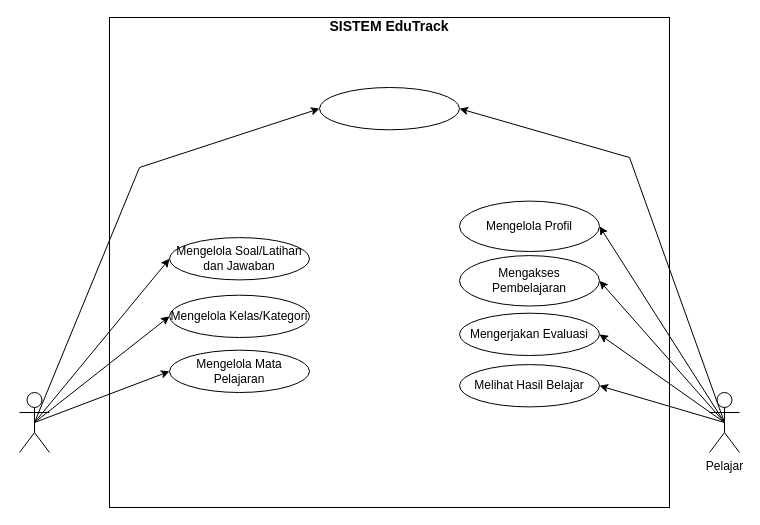
This 760x525 diagram has some shape labels left out. The centre of each missing label's shape, as x and y in pixels:
Admin: the point at 34,422
Autentikasi: the point at 389,108
